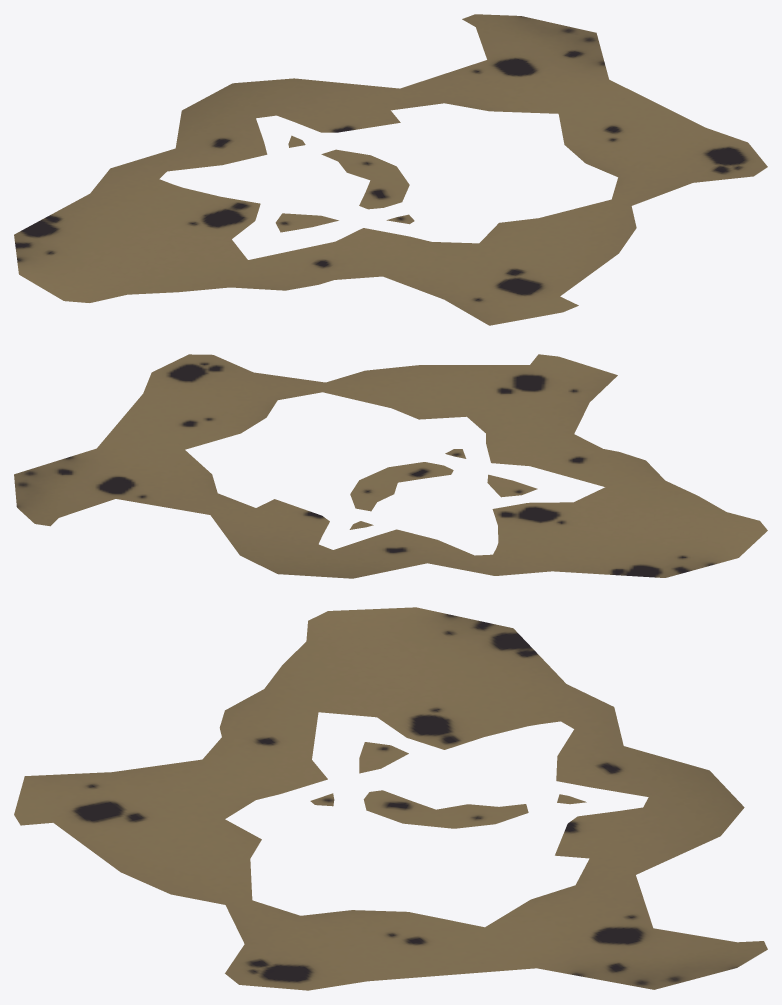
File: Ground_05.FBX
The picture shows the model from 3 angles, top to bottom: view 1: azimuth 30°, elevation 25°; view 2: azimuth 150°, elevation 25°; view 3: azimuth 270°, elevation 25°; orthographic projection. The views are drawn at different scales.
Visible parts, largest first — view 1: Ground_05; view 2: Ground_05; view 3: Ground_05.
Boxes of the visible parts, x1,y1,x2,y2 form: Ground_05: (14, 14, 767, 325); Ground_05: (14, 354, 767, 578); Ground_05: (14, 607, 767, 990).
Bounding box in the file's own units: 18.73 × 1.19e-07 × 15.57.
